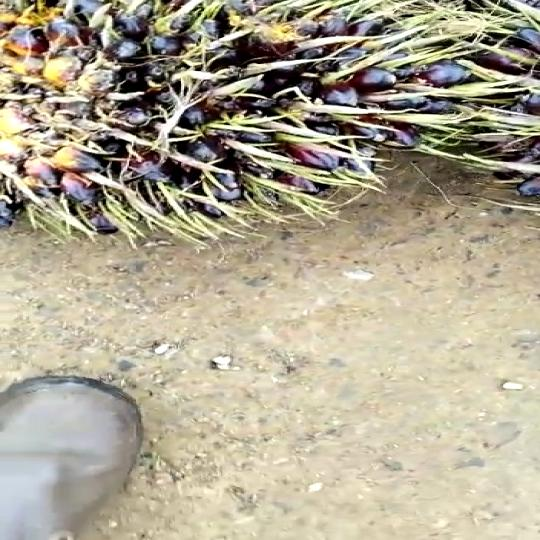mentah: (1, 2, 540, 230)
